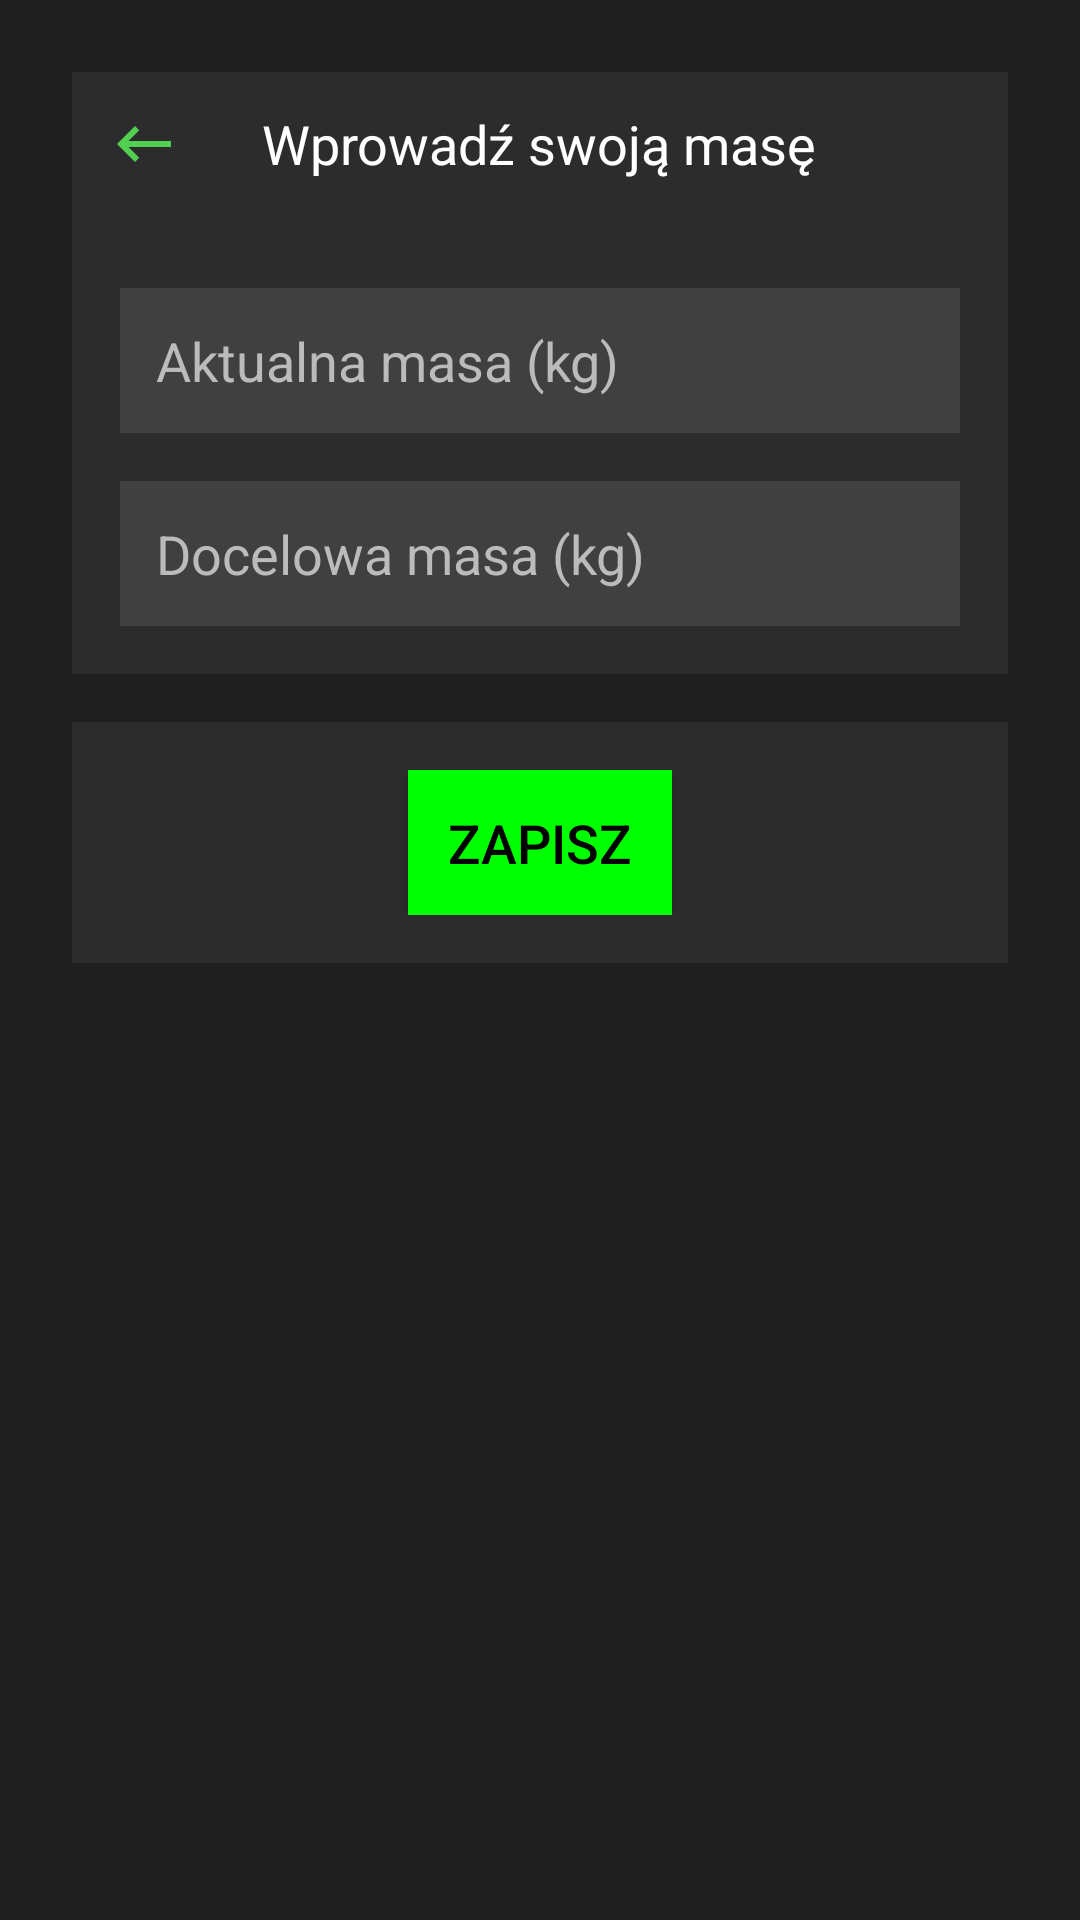

Where icons sit on this 1080 x 1920 app screen, as (x1=x1, y1=y1, x2=x2, y2=y2):
wróc do ekranu głownego: (x1=117, y1=126, x2=171, y2=162)
